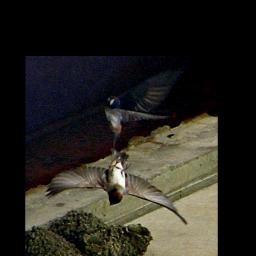Swallow: (42, 145, 190, 227)
